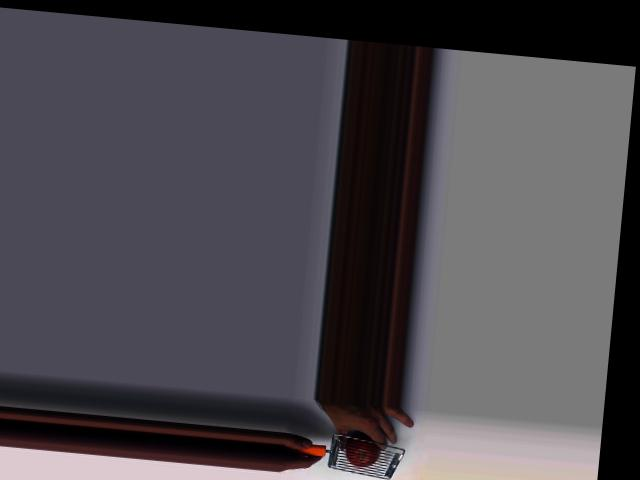tomato: (343, 433, 380, 468)
